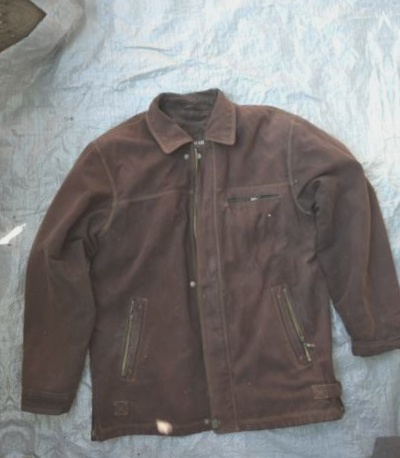Blazer: (0, 66, 400, 458), (395, 30, 400, 423)
